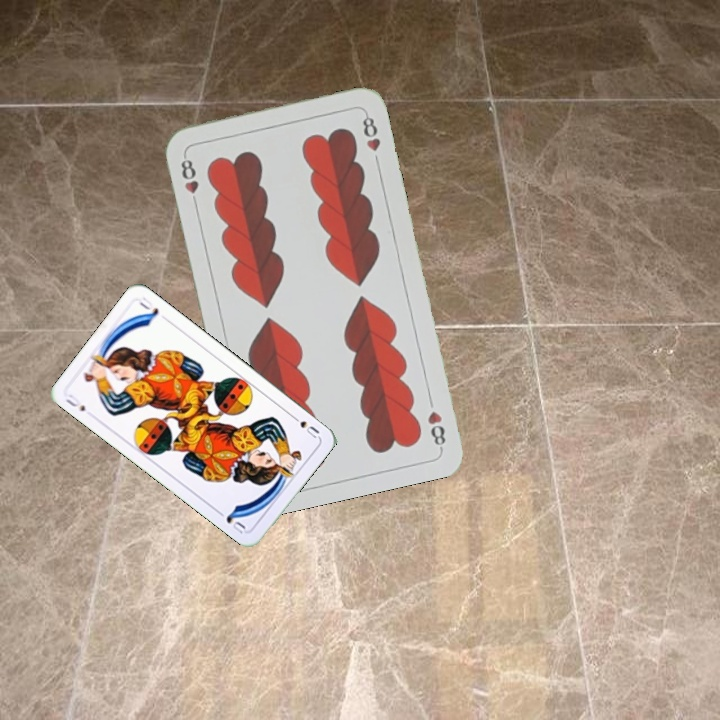H8: (177, 151, 201, 209), (423, 407, 448, 451)
SU: (287, 411, 322, 441), (61, 390, 88, 414)
